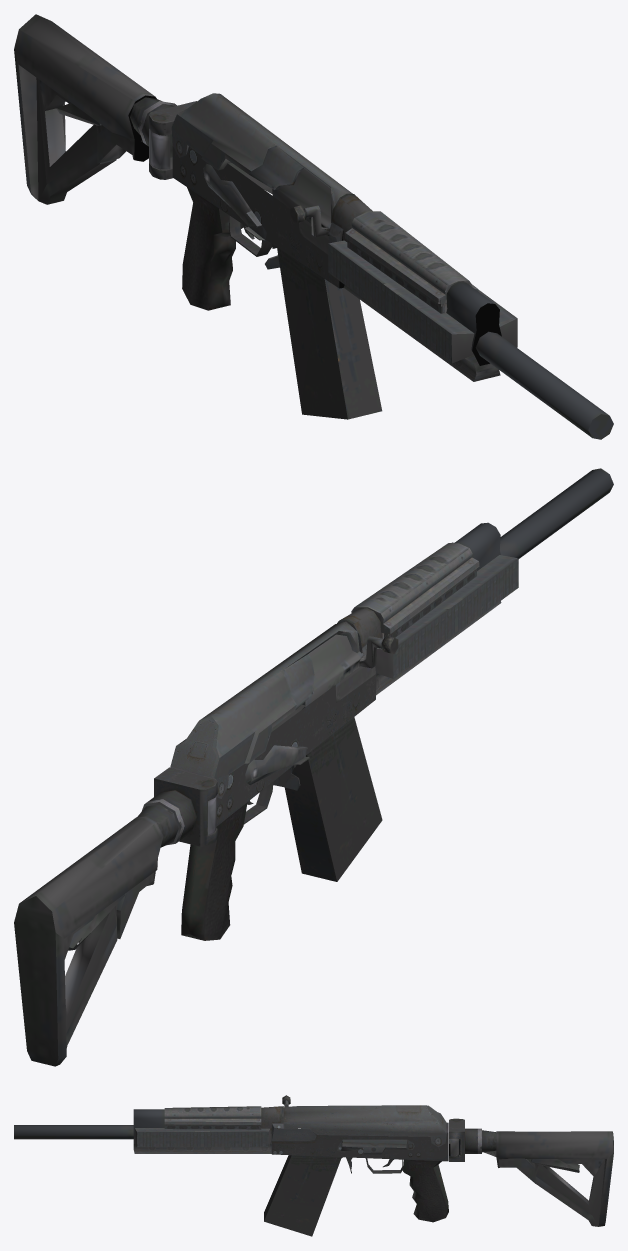
Rendered from Shotgun_Saiga12_Shotgun_Body_LOD_(000215).glb.
3 views of the same model, one above another, from view 1: azimuth 30°, elevation 25°; view 2: azimuth 150°, elevation 25°; view 3: azimuth 270°, elevation 25° (orthographic). The views are drawn at different scales.
Visible parts, largest first — view 1: SG_saiga12_lod1; view 2: SG_saiga12_lod1; view 3: SG_saiga12_lod1.
Part boxes in pixels (<box>): SG_saiga12_lod1: <box>14,14,613,439</box>; SG_saiga12_lod1: <box>14,468,613,1066</box>; SG_saiga12_lod1: <box>14,1095,613,1236</box>.
Size of the model in its own units: 0.0934 by 0.2554 by 1.09.
Materials: 1 (1 with a texture image).
